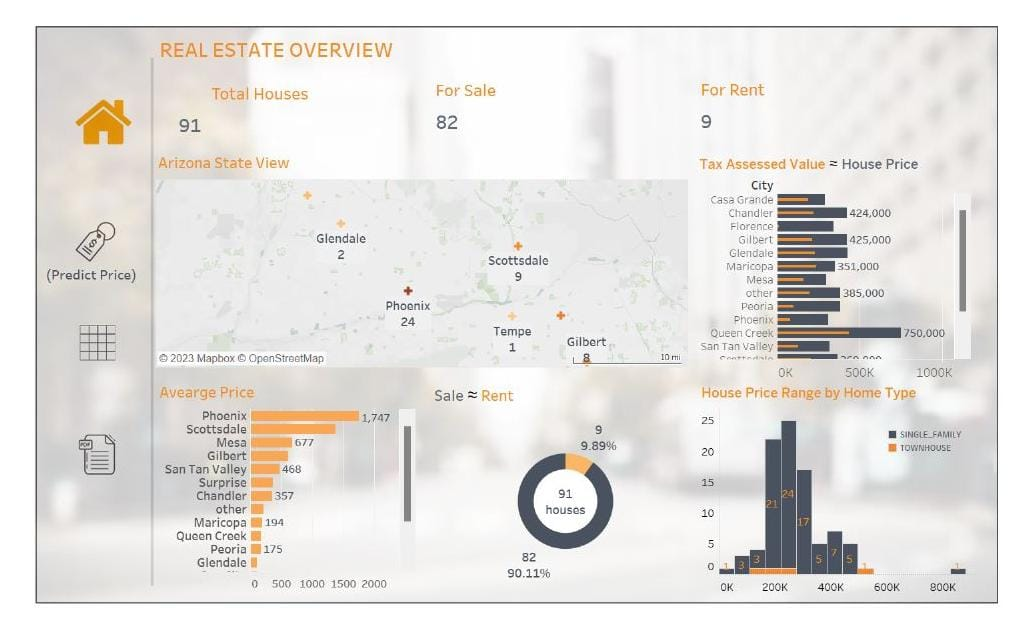

What the dashboard file says about the page in this screenshot:
{"tool":"tableau","page":{"name":"REAL ESTATE OVERVIEW","canvas":[1500,900],"ordinal":1},"visuals":[{"type":"image","param":"C:/Users/USER/Documents/ZHP/dashboard.png","box":[8,8,1484,884]},{"type":"text","box":[227,13,701,57]},{"type":"worksheet","title":"overview1","mark":"Automatic","box":[231,105,264,118]},{"type":"worksheet","title":"overview 2","mark":"Automatic","box":[632,108,307,122]},{"type":"worksheet","title":"overview 3","mark":"Automatic","box":[1034,108,332,143]},{"type":"worksheet","title":"Bar in bar","mark":"Automatic","rows":["city"],"box":[1033,211,435,305]},{"type":"worksheet","title":"Map","mark":"Shape","box":[218,213,797,303]},{"type":"worksheet","title":"Predicted Price Parameters","mark":"Automatic","box":[187,267,490,79]},{"type":"dashboard-object","box":[83,308,84,79]},{"type":"text","box":[187,346,490,33]},{"type":"parameter","param":"[Parameters].[Parameter 1]","box":[187,379,490,60]},{"type":"text","box":[55,385,144,30]},{"type":"parameter","param":"[Parameters].[Parameter 3]","box":[187,439,490,60]},{"type":"dashboard-object","box":[77,458,114,94]},{"type":"parameter","param":"[Parameters].[Test Bathrooms (copy)_3160682558038994951]","box":[187,499,490,83]},{"type":"worksheet","title":"Bar graph","mark":"Bar","rows":["city"],"cols":["price_per_sqft"],"box":[221,526,394,335]},{"type":"worksheet","title":"Donut Chart","mark":"Pie","rows":["Calculation_3160682557911240707","Calculation_3160682557911289861"],"box":[628,528,388,324]},{"type":"worksheet","title":"Histogram","mark":"Automatic","rows":["taxAssessedValue"],"cols":["Tax Assessed Value (bin)"],"box":[1038,531,455,329]},{"type":"parameter","param":"[Parameters].[Parameter 4]","box":[187,582,490,83]},{"type":"dashboard-object","box":[71,612,126,115]},{"type":"dashboard-object","box":[45,613,91,92]},{"type":"legend","title":"Histogram","param":"[federated.0l6pls20bws94s1bhkdpa1ribdjo].[none:homeType:nk]","box":[1319,619,143,49]}]}

Visuals, with their boxes in screenshot pixels (x1, y1, x2, y2), scaled from the page's 1500x900 canvas onto the 1027x623 screenshot:
image: 5:6:1022:617
text: 155:9:635:48
"overview1" worksheet: 158:73:339:154
"overview 2" worksheet: 433:75:643:159
"overview 3" worksheet: 708:75:935:174
"Bar in bar" worksheet: 707:146:1005:357
"Map" worksheet (Shape marks): 149:147:695:357
"Predicted Price Parameters" worksheet: 128:185:464:240
dashboard-object: 57:213:114:268
text: 128:240:464:262
parameter: 128:262:464:304
text: 38:267:136:287
parameter: 128:304:464:345
dashboard-object: 53:317:131:382
parameter: 128:345:464:403
"Bar graph" worksheet (Bar marks): 151:364:421:596
"Donut Chart" worksheet (Pie marks): 430:365:696:590
"Histogram" worksheet: 711:368:1022:595
parameter: 128:403:464:460
dashboard-object: 49:424:135:503
dashboard-object: 31:424:93:488
"Histogram" legend: 903:428:1001:462
